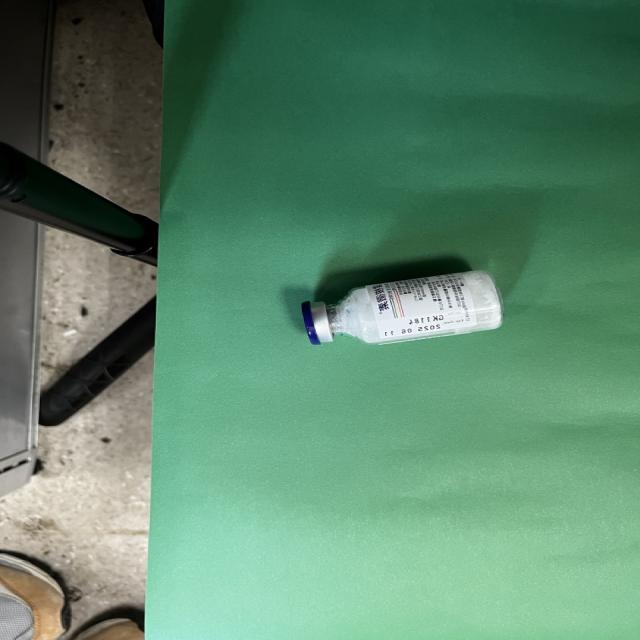Vials: (301, 270, 502, 345)
